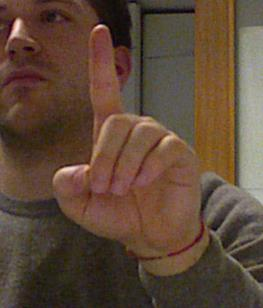up: (53, 22, 201, 254)
